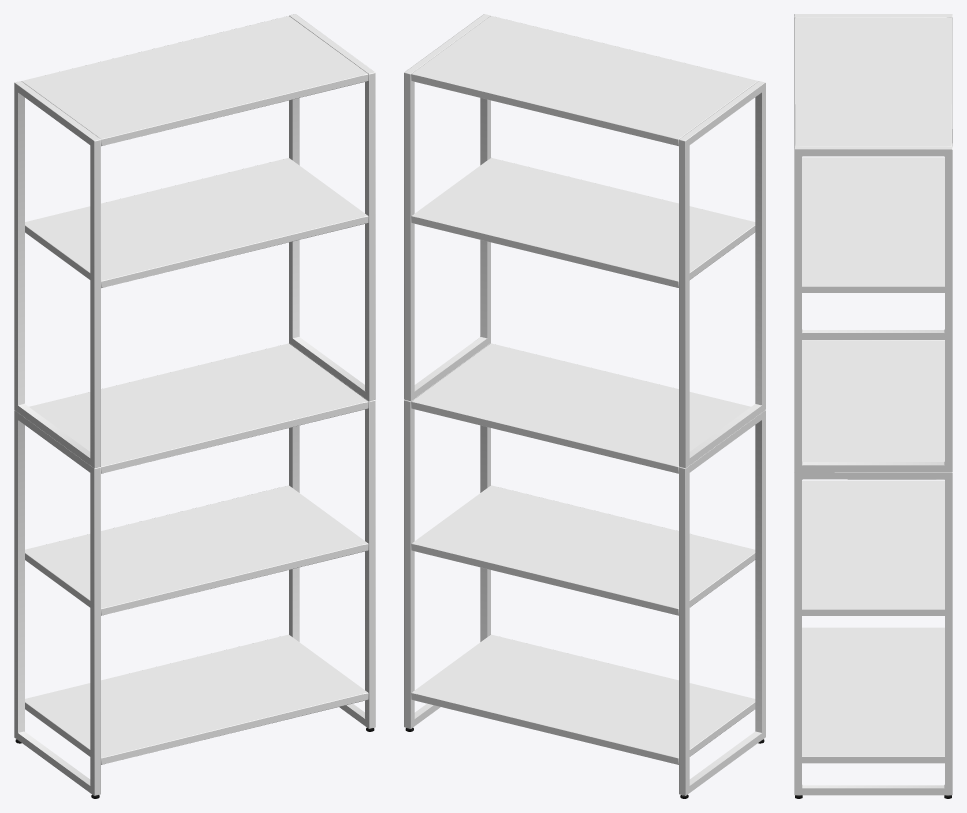
File: jostein_rega_19437209.glb
3 renders of one model, left to right at view 1: azimuth 30°, elevation 25°; view 2: azimuth 150°, elevation 25°; view 3: azimuth 270°, elevation 25°, orthographic.
Parts seen in each view (by area): view 1: jostein_rega_19437209; view 2: jostein_rega_19437209; view 3: jostein_rega_19437209.
Boxes of the visible parts, x1,y1,x2,y2 form: jostein_rega_19437209: (14, 14, 375, 798); jostein_rega_19437209: (404, 14, 765, 798); jostein_rega_19437209: (794, 14, 952, 798).
Size of the model in its own units: 0.8099 by 1.81 by 0.4.
Materials: 1 (1 with a texture image).
